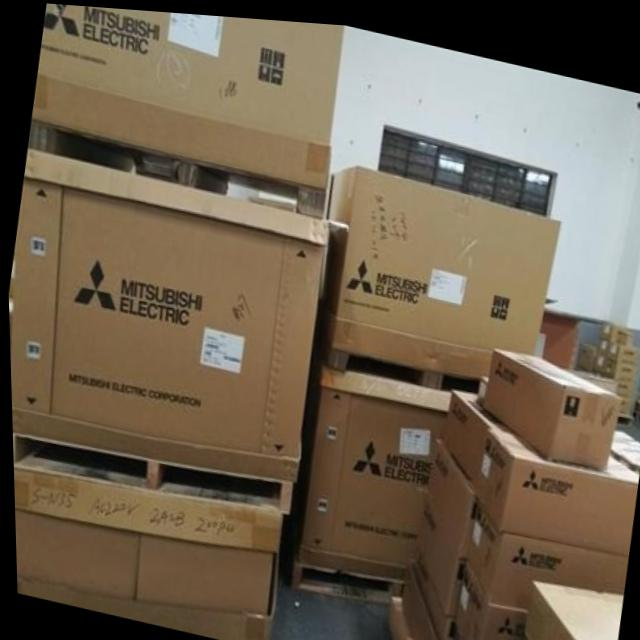box: (8, 147, 330, 480), (32, 3, 346, 188), (316, 160, 562, 374), (11, 468, 282, 640), (295, 352, 449, 575), (469, 422, 635, 548), (464, 488, 624, 604), (481, 341, 620, 463), (522, 572, 619, 640), (451, 553, 526, 640), (423, 433, 476, 554), (412, 489, 463, 612), (440, 385, 505, 477), (397, 552, 453, 640), (591, 312, 639, 407), (576, 333, 594, 362), (449, 614, 462, 640)
